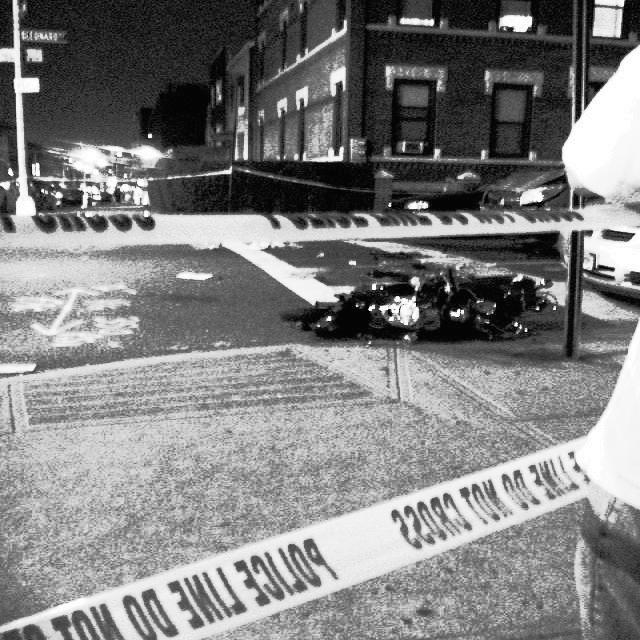Motorcycle: (278, 262, 553, 339)
